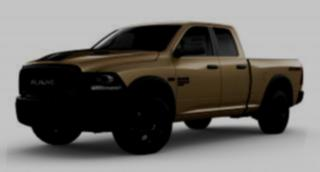ram: (28, 76, 60, 90)
